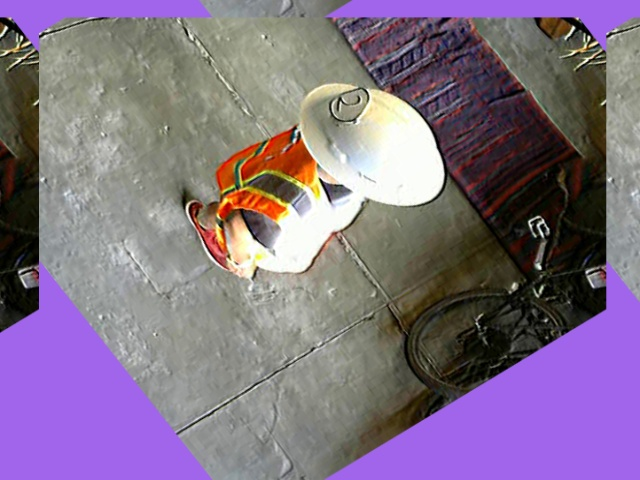two: (323, 81, 379, 127)
